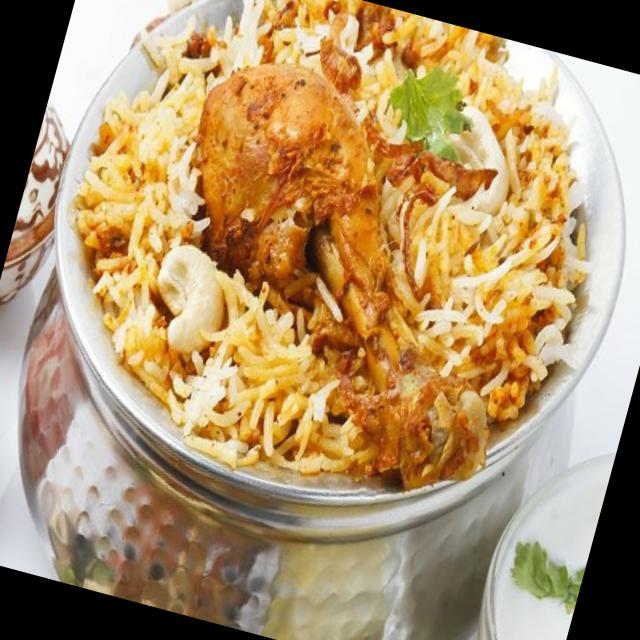Biryani: (12, 0, 640, 546)
